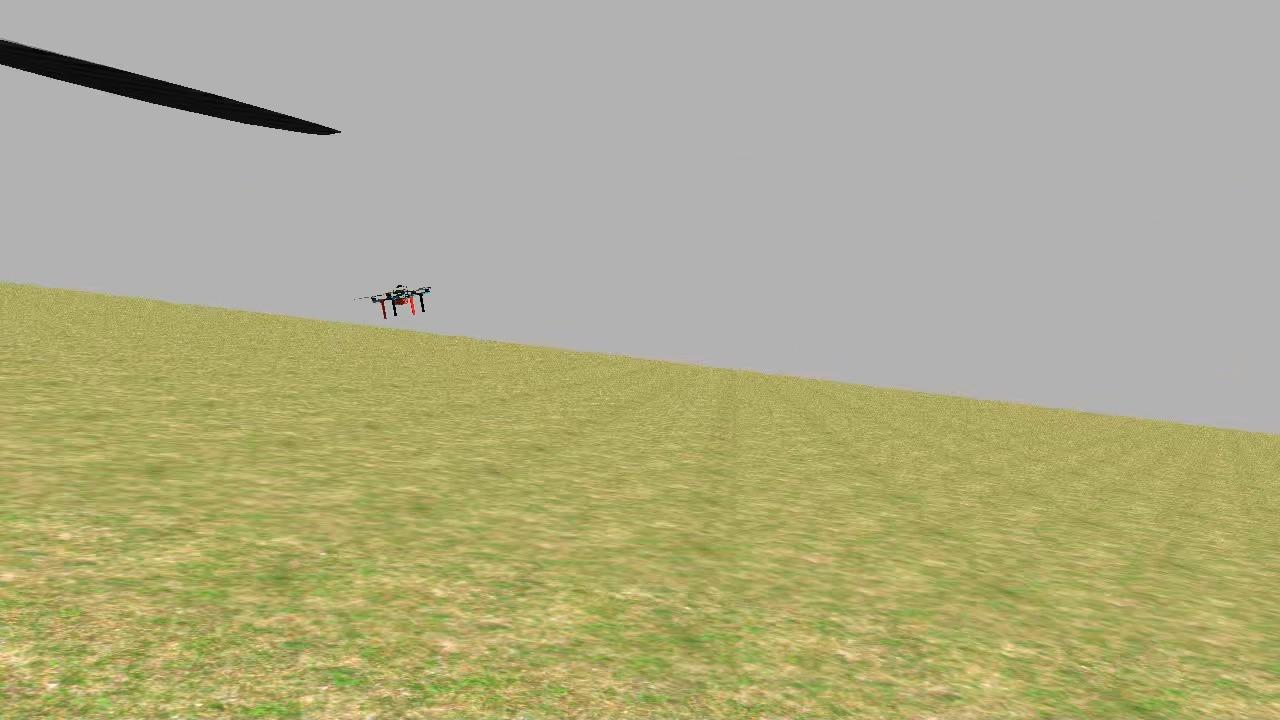UAV: (365, 276, 434, 328)
